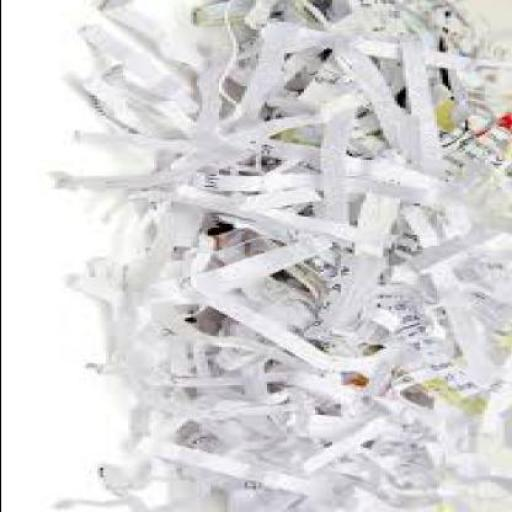paper: (51, 2, 511, 511)
